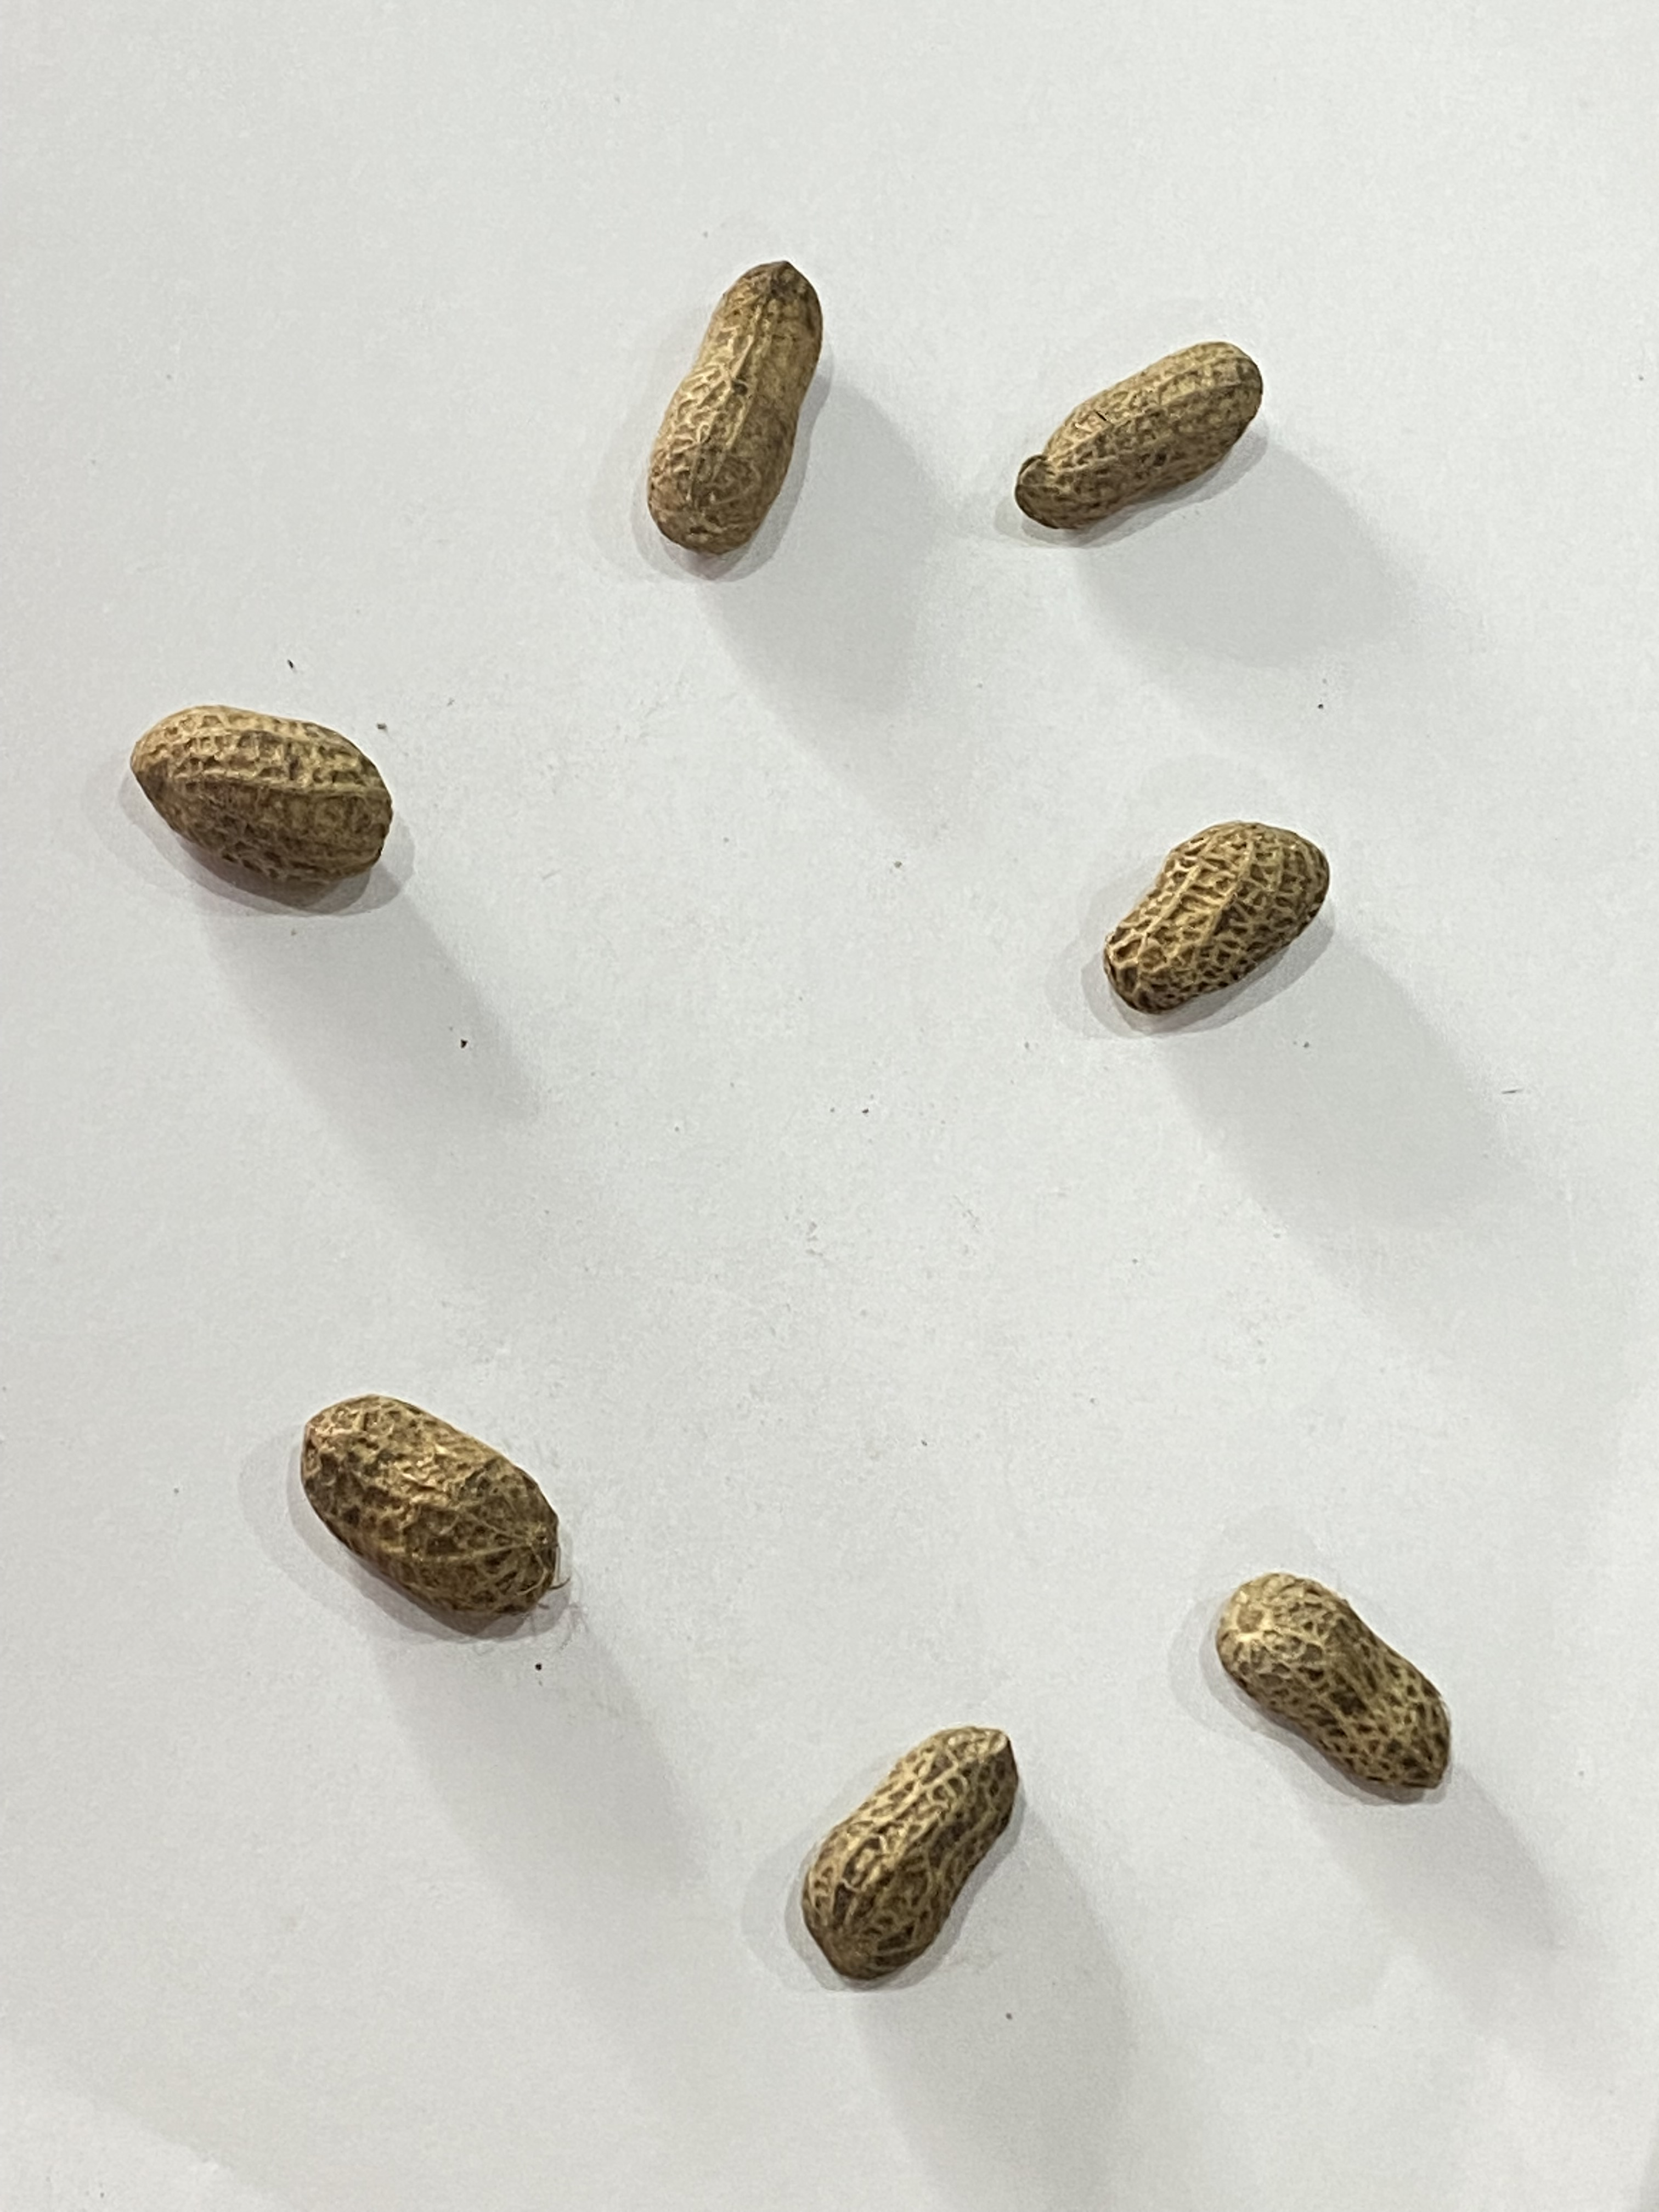kacang1: (103, 686, 439, 909), (293, 1381, 589, 1630), (1093, 820, 1349, 1021)
kacang2: (796, 1683, 1044, 2005), (612, 239, 828, 568), (1216, 1534, 1450, 1808), (1007, 340, 1290, 526)
